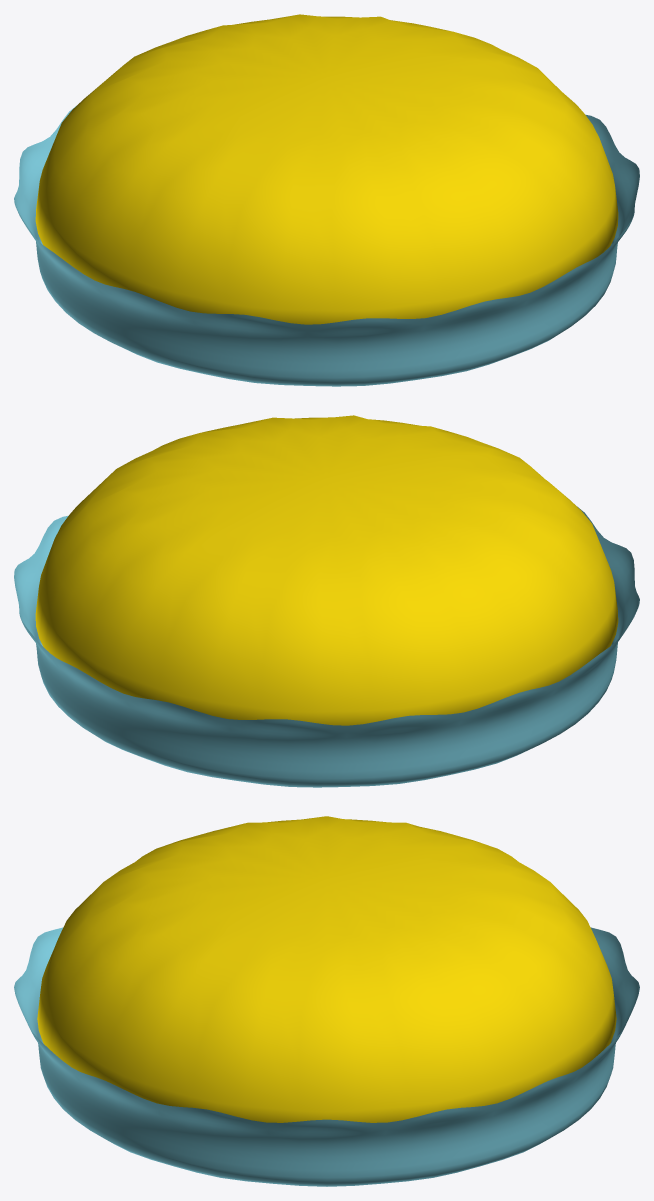
File: Cake.fbx
The picture shows the model from 3 angles, top to bottom: view 1: azimuth 30°, elevation 25°; view 2: azimuth 150°, elevation 25°; view 3: azimuth 270°, elevation 25°; orthographic projection.
Visible parts, largest first — view 1: Cake; view 2: Cake; view 3: Cake.
Part boxes in pixels (bbox=[...]): Cake: bbox=[14, 14, 639, 386]; Cake: bbox=[14, 415, 639, 787]; Cake: bbox=[14, 816, 639, 1186].
Size of the model in its own units: 93.37 by 33.39 by 93.37.
